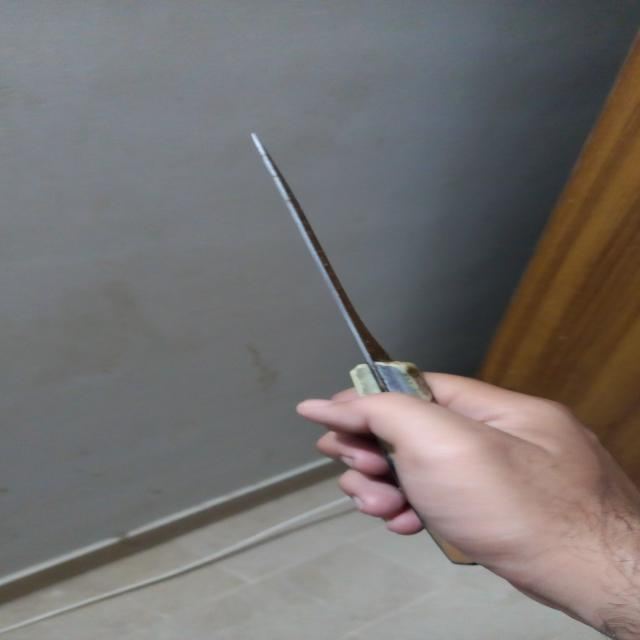knife: (216, 102, 482, 417)
